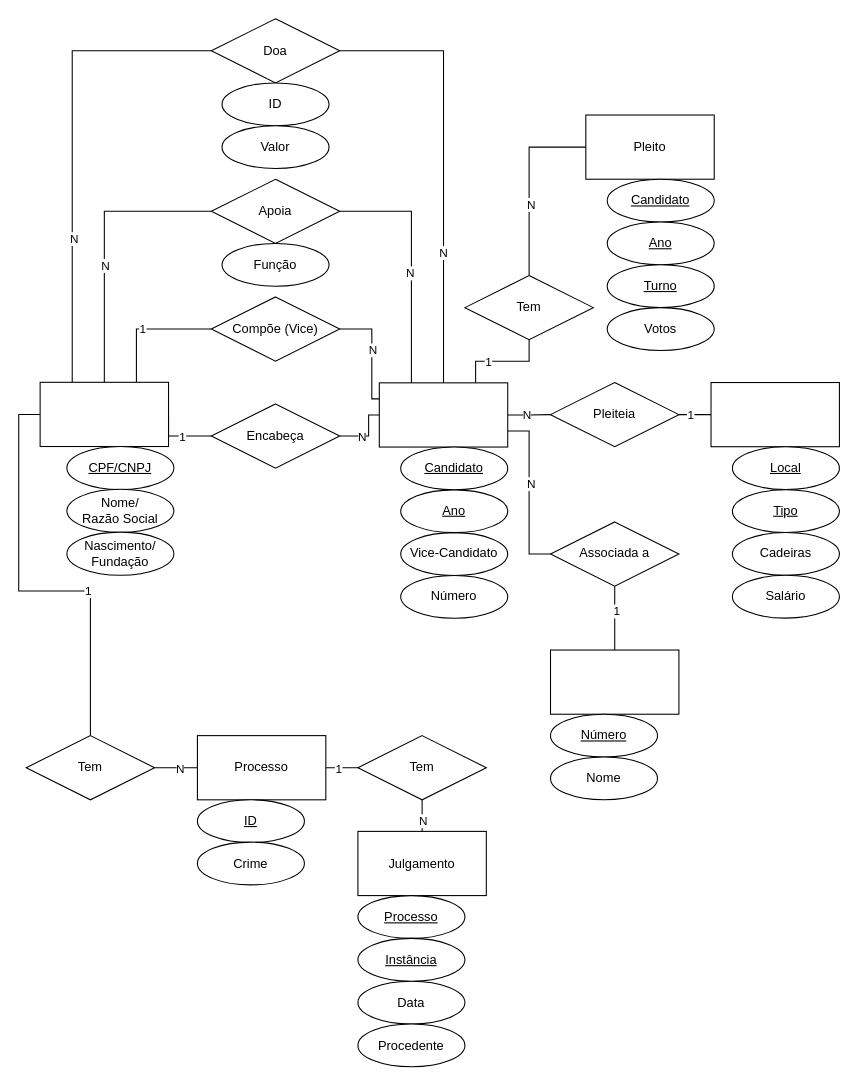
Image size: 858x1086. Some labels were removed from this diagram. The centre of each missing label's shape, as x and y in pixels:
Candidatura: (443,414)
Cargo: (774,414)
Indivíduo: (104,414)
Partido: (614,681)
